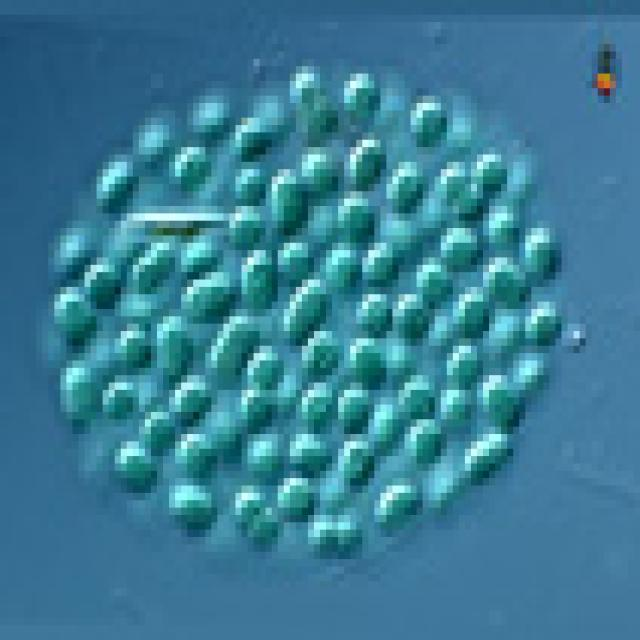Blue Green Algae: (157, 478, 211, 537), (54, 360, 97, 434), (447, 287, 495, 353), (380, 169, 429, 228), (48, 280, 97, 338), (235, 243, 278, 309), (151, 309, 199, 368), (278, 280, 332, 331), (90, 154, 139, 206), (519, 294, 568, 346), (374, 478, 423, 530), (344, 331, 387, 390), (332, 191, 380, 243), (477, 375, 525, 427), (272, 463, 314, 522), (163, 368, 211, 419), (175, 265, 223, 316), (435, 383, 483, 434), (115, 316, 151, 382), (519, 228, 562, 280), (241, 346, 284, 397), (404, 412, 447, 463), (229, 486, 272, 537), (338, 132, 380, 184), (338, 66, 380, 118), (109, 434, 151, 486), (175, 427, 217, 478), (284, 427, 326, 478), (477, 206, 519, 257), (459, 434, 495, 493), (465, 147, 513, 191), (435, 228, 483, 272), (404, 96, 447, 140), (78, 258, 121, 302), (169, 140, 211, 184), (236, 383, 272, 434), (320, 243, 356, 294), (398, 368, 434, 419), (296, 147, 332, 191), (242, 434, 278, 478), (362, 243, 398, 287), (332, 375, 362, 427), (411, 258, 446, 302), (96, 375, 132, 412), (236, 118, 266, 162)
